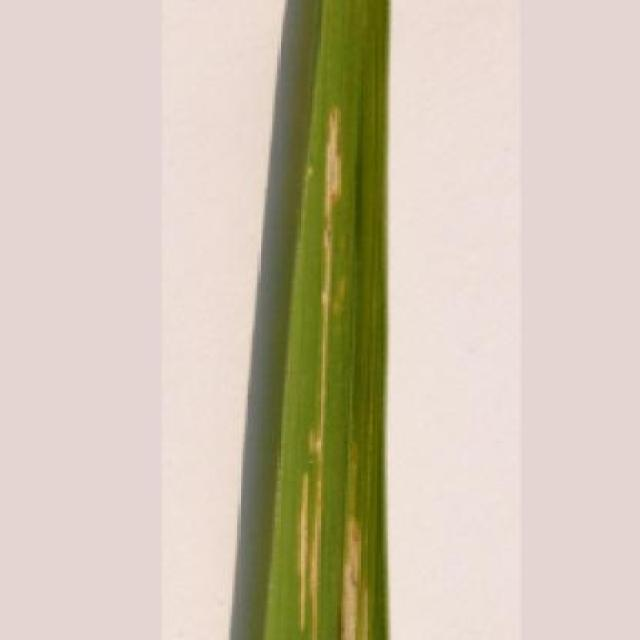Brown_Spot: (260, 0, 394, 640)
